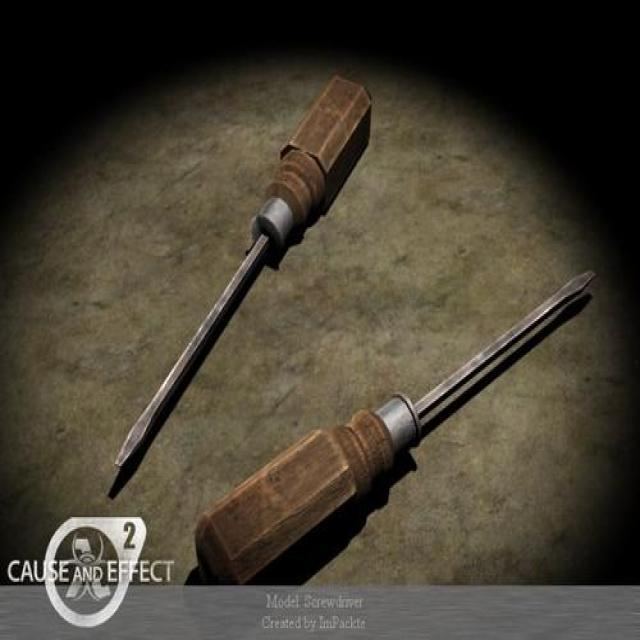screw driver: (166, 251, 640, 640), (77, 47, 391, 498)
